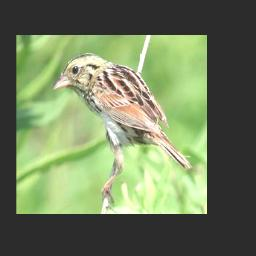Sparrow: (52, 52, 193, 203)
